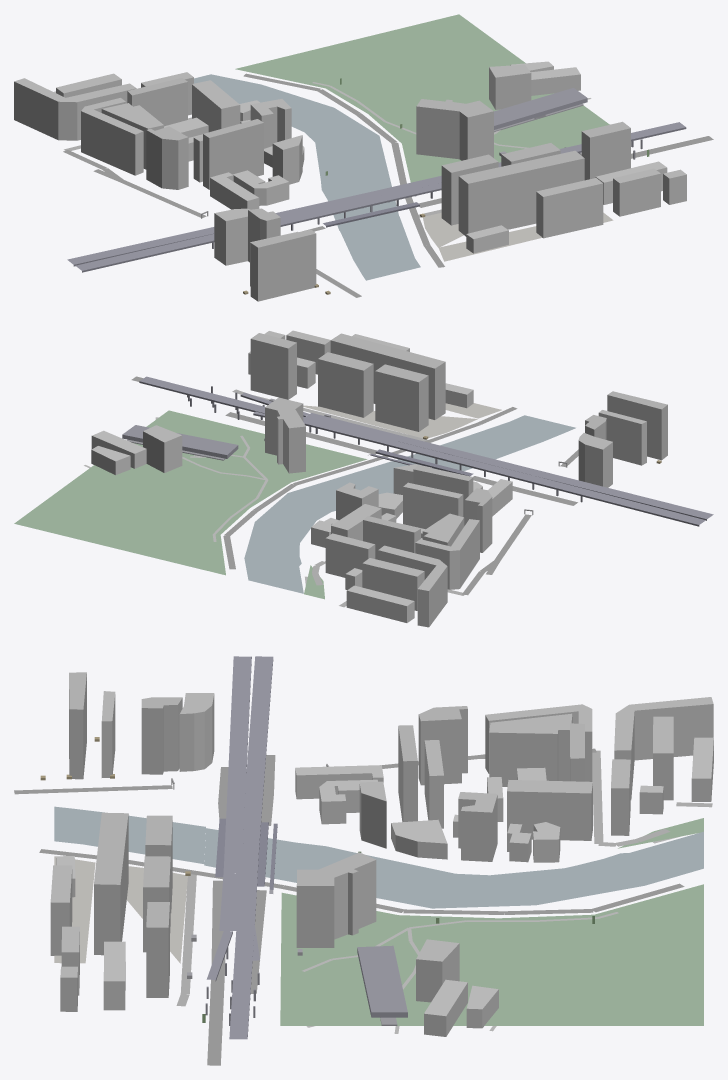
3 renders of one model, top to bottom at view 1: azimuth 30°, elevation 25°; view 2: azimuth 150°, elevation 25°; view 3: azimuth 270°, elevation 25°, orthographic. The views are drawn at different scales.
Bounding box in the file's own units: 715 × 61.28 × 539.
